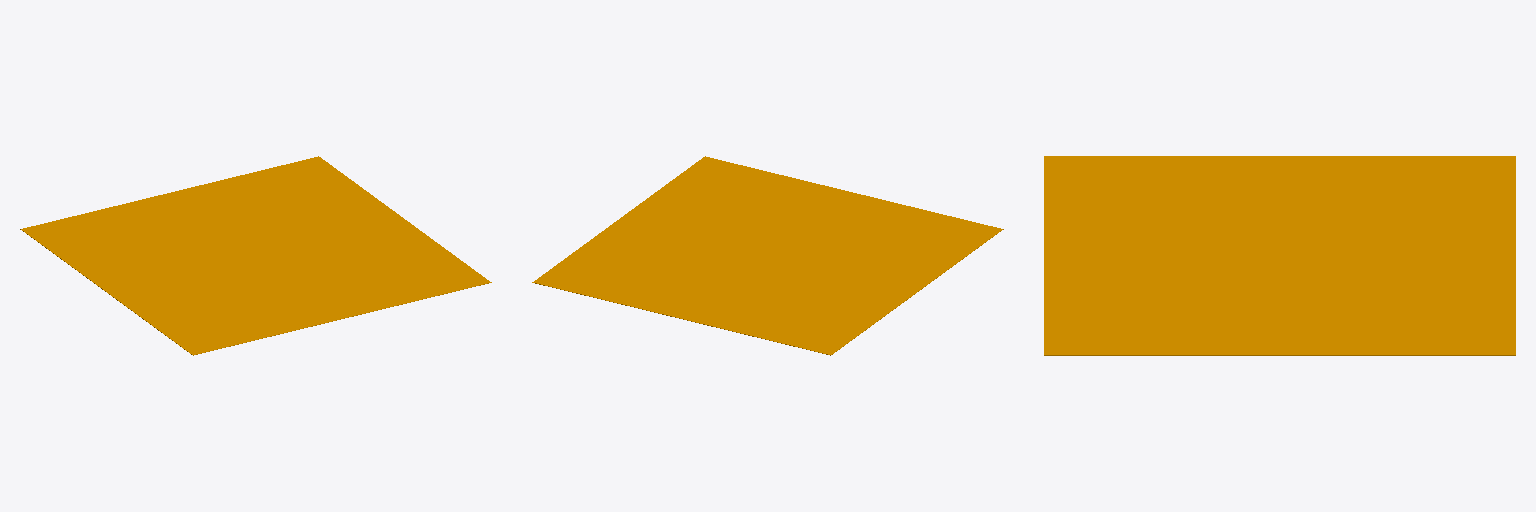
robot.urdf — target:
<robot name="target">
  <link name="target">
    <inertial>
      <origin xyz="0.0 0.0 0.0005" />
      <mass value="100" />
      <inertia  ixx="0.5" ixy="0.0"  ixz="0.0"  iyy="0.5"  iyz="0.0"  izz="0.5" />
    </inertial>
    <visual>
      <origin xyz="0 0 0"/>
      <geometry>
        <box size="1 1 0.001" />
      </geometry>
    </visual>
    <collision>
      <origin xyz="0 0 0"/>
      <geometry>
        <box size="1 1 0.001" />
      </geometry>
    </collision>
  </link>
  <gazebo reference="target">
    <material>target</material>
     <mu1>1000</mu1>
     <mu2>1000</mu2>
  </gazebo>
</robot>

--- What the picture shows (computed from the rendered views, not written in the file) ---
The picture shows the robot from 3 angles, left to right: view 1: azimuth 30°, elevation 25°; view 2: azimuth 150°, elevation 25°; view 3: azimuth 270°, elevation 25°; orthographic projection.
Robot: target — 1 links, 0 joints (none); root link target; default pose: every joint at zero.
Links seen in each view (by area): view 1: target; view 2: target; view 3: target.
Link boxes in pixels (left/top/right/bottom): target: left=20, top=156, right=491, bottom=355; target: left=532, top=156, right=1003, bottom=355; target: left=1044, top=156, right=1515, bottom=355.
Size in the robot's own frame: 1 by 1 by 0.001 metres.
Geometry: primitives only (box / cylinder / sphere), no mesh files.
